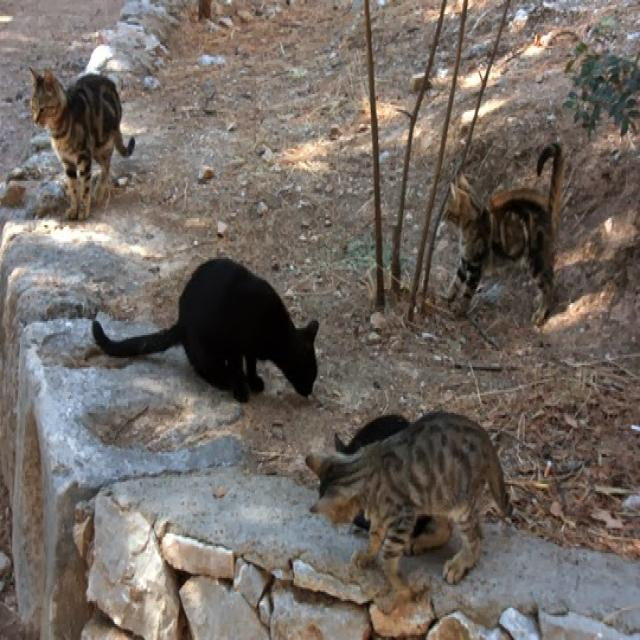cat: (306, 411, 510, 591), (92, 258, 319, 401), (446, 146, 561, 324), (31, 69, 135, 220), (335, 415, 410, 453), (410, 516, 451, 553), (354, 510, 370, 530)
